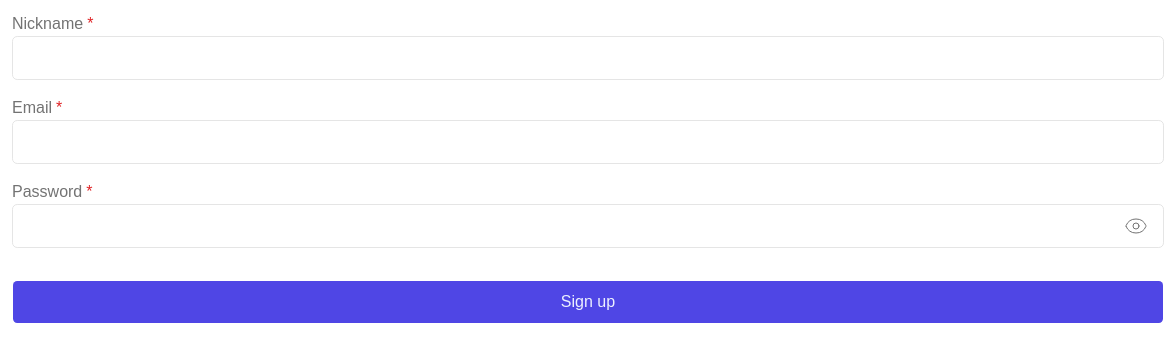
Signup Form › requires nickname
The image size is (1176, 356).
In the field labelled "Email*": (588, 142) [12, 120, 1164, 164], type "example@example.com"
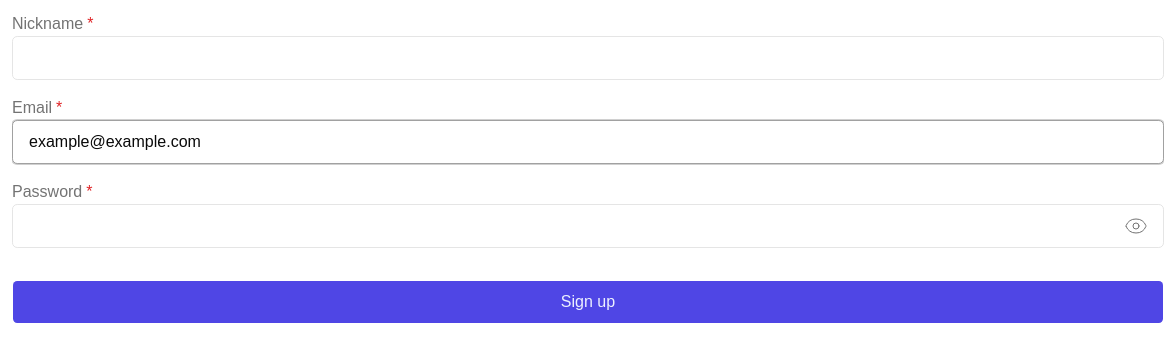
In the password field labelled "Password": (588, 226) [12, 204, 1164, 248], type "Password123!"
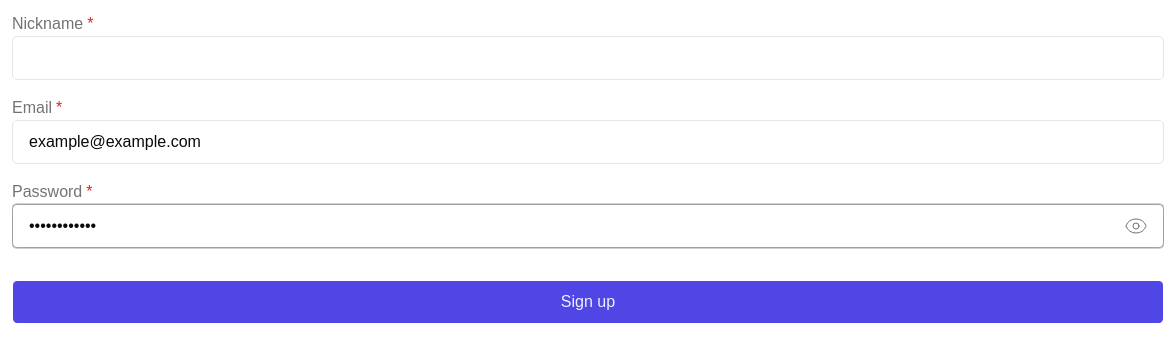
Click the button "Sign up": click(588, 302) [12, 280, 1164, 324]
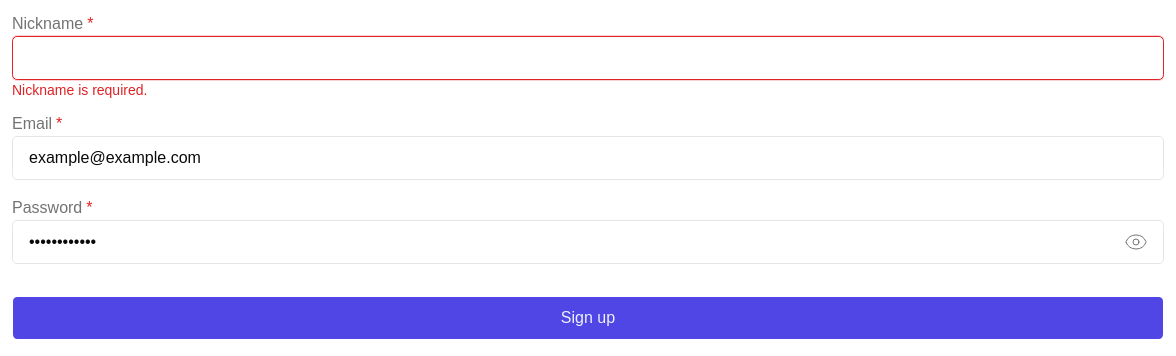
Expected: the text "Nickname is required." is shown, [12, 80, 147, 100]
